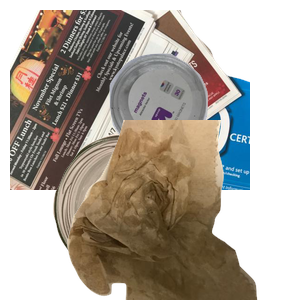glass: (50, 131, 252, 300)
paper: (10, 10, 250, 190)
plastic: (107, 51, 300, 199)
trash: (65, 120, 300, 300)
